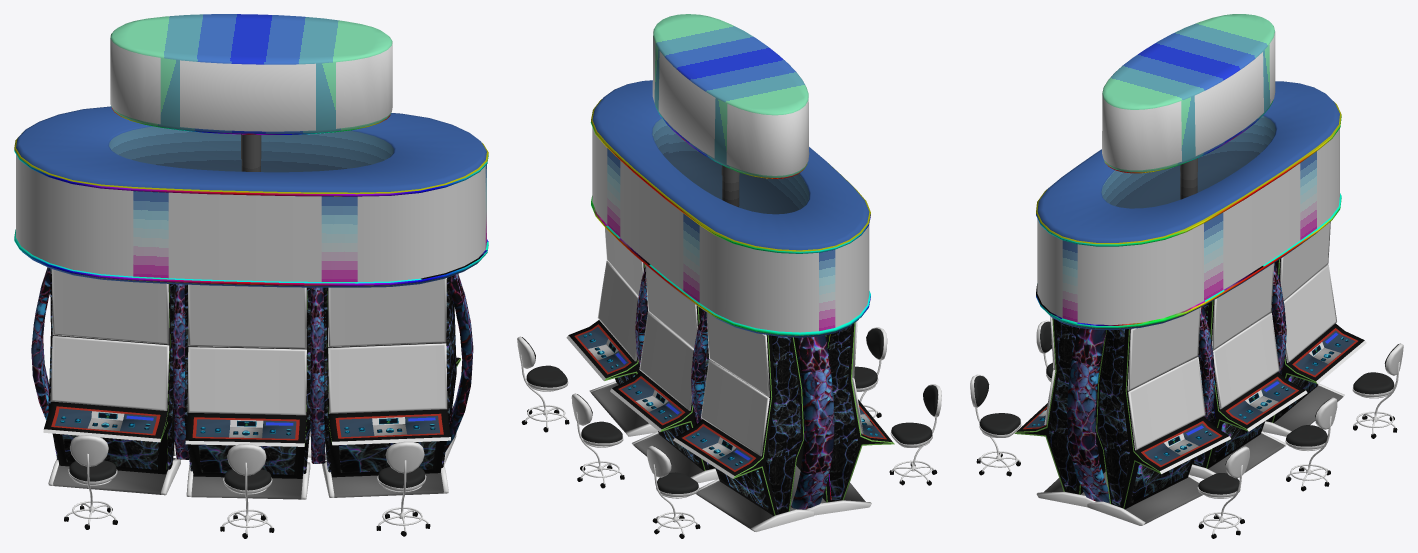
File: SlotAutomatIslandLong.fbx
3 views of the same model, side by side, from view 1: azimuth 30°, elevation 25°; view 2: azimuth 150°, elevation 25°; view 3: azimuth 270°, elevation 25° (orthographic). The views are drawn at different scales.
Parts seen in each view (by area): view 1: EffectObjectFade, WinDiscription, SlotMashine.035, SlotMashine.034, SlotMashine.006, UVScrollObjectIsland.002, GameChair.032, GameChair.033, GameChair.034, SlotMashine.037; view 2: EffectObjectFade, WinDiscription, SlotMashine.039, SlotMashine.038, SlotMashine.037, SlotMashine.034, UVScrollObjectIsland.002, GameChair.047, GameChair.048, GameChair.034, GameChair.049, GameChair.033; view 3: EffectObjectFade, WinDiscription, SlotMashine.037, SlotMashine.038, SlotMashine.039, SlotMashine.006, UVScrollObjectIsland.002, GameChair.049, GameChair.048, GameChair.032, GameChair.047, GameChair.033.
Boxes of the visible parts, <box> form: EffectObjectFade: <box>16,106,486,463</box>; WinDiscription: <box>110,14,392,162</box>; SlotMashine.035: <box>184,284,311,499</box>; SlotMashine.034: <box>43,268,180,495</box>; SlotMashine.006: <box>322,277,450,497</box>; UVScrollObjectIsland.002: <box>14,132,488,285</box>; GameChair.032: <box>376,441,430,536</box>; GameChair.033: <box>220,444,274,538</box>; GameChair.034: <box>64,435,117,529</box>; SlotMashine.037: <box>325,290,460,464</box>; EffectObjectFade: <box>592,80,869,509</box>; WinDiscription: <box>652,14,809,178</box>; SlotMashine.039: <box>673,312,814,531</box>; SlotMashine.038: <box>610,265,718,483</box>; SlotMashine.037: <box>566,228,657,436</box>; SlotMashine.034: <box>791,320,894,515</box>; UVScrollObjectIsland.002: <box>590,99,870,335</box>; GameChair.047: <box>647,446,700,538</box>; GameChair.048: <box>571,393,624,488</box>; GameChair.034: <box>889,384,941,485</box>; GameChair.049: <box>517,336,569,432</box>; GameChair.033: <box>854,327,887,417</box>; EffectObjectFade: <box>1037,81,1339,502</box>; WinDiscription: <box>1102,14,1275,174</box>; SlotMashine.037: <box>1087,307,1230,525</box>; SlotMashine.038: <box>1189,263,1307,478</box>; SlotMashine.039: <box>1262,221,1366,436</box>; SlotMashine.006: <box>1014,316,1107,507</box>; UVScrollObjectIsland.002: <box>1036,101,1341,328</box>; GameChair.049: <box>1197,446,1249,538</box>; GameChair.048: <box>1285,397,1337,491</box>; GameChair.032: <box>970,374,1021,476</box>; GameChair.047: <box>1352,343,1403,438</box>; GameChair.033: <box>1036,320,1053,381</box>.
Bounding box in the file's own units: 531 × 517 × 526.
Materials: 13 (7 with a texture image).
